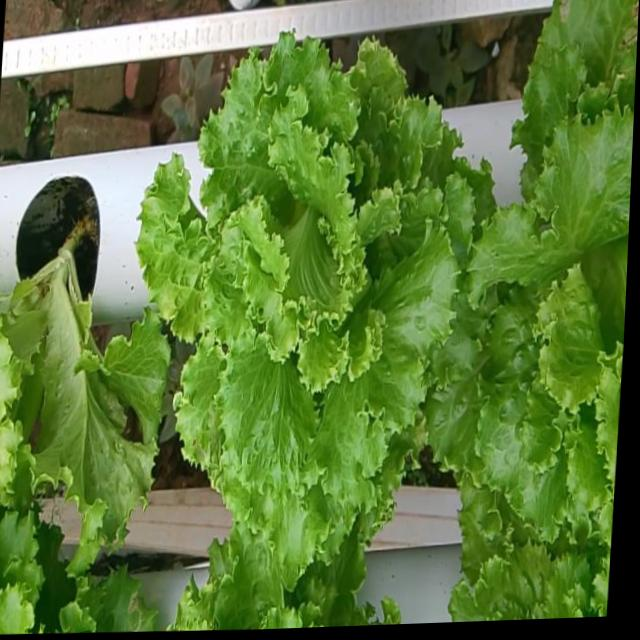Mature: (131, 9, 468, 548), (420, 78, 635, 523)
